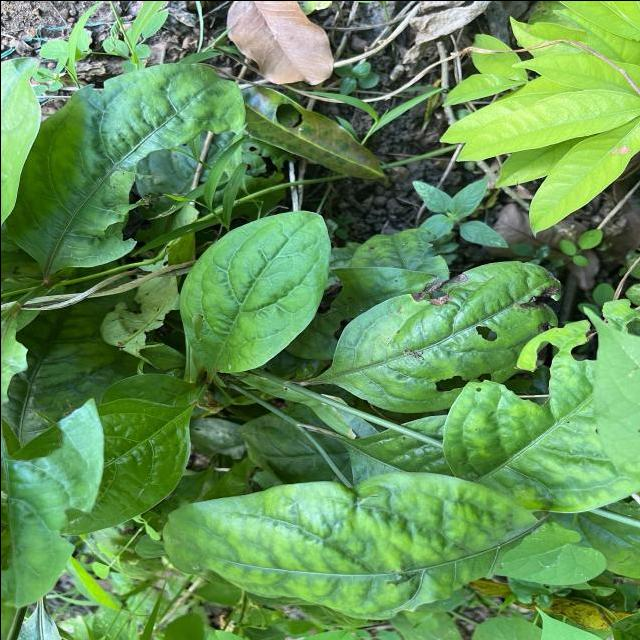Plumbago indica: (160, 466, 542, 625), (310, 260, 568, 420), (166, 208, 342, 378)
